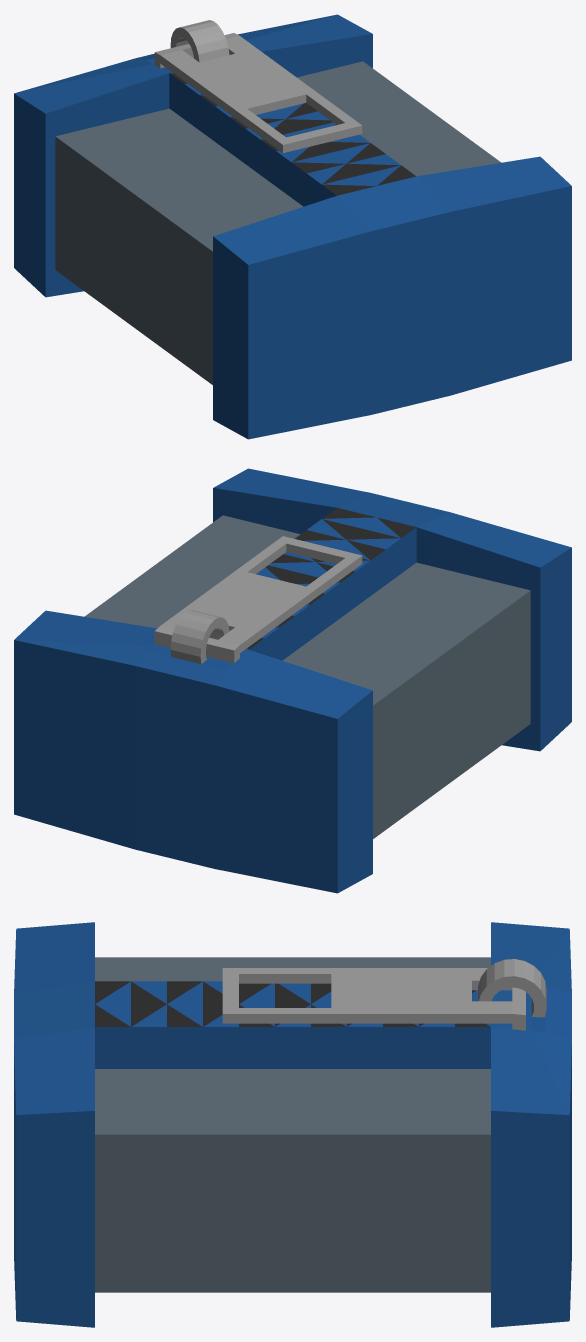
The model's file is Zip_L.fbx.
3 renders of one model, top to bottom at view 1: azimuth 30°, elevation 25°; view 2: azimuth 150°, elevation 25°; view 3: azimuth 270°, elevation 25°, orthographic. The views are drawn at different scales.
Parts seen in each view (by area): view 1: Zip_L; view 2: Zip_L; view 3: Zip_L.
Boxes of the visible parts, x1=… form: Zip_L: x1=14, y1=14, x2=571, y2=439; Zip_L: x1=14, y1=468, x2=571, y2=893; Zip_L: x1=14, y1=922, x2=571, y2=1327.
Size of the model in its own units: 40 by 27.5 by 50.
